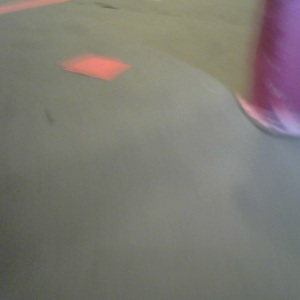right: (234, 1, 300, 141)
